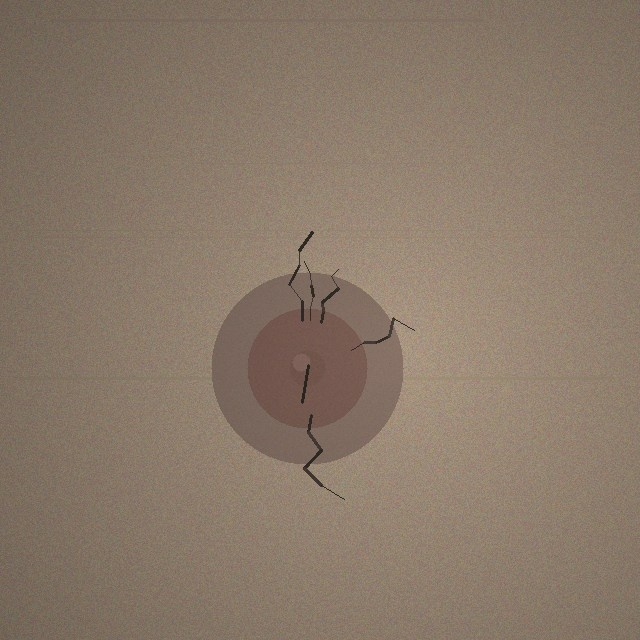crack: (211, 272, 403, 464)
